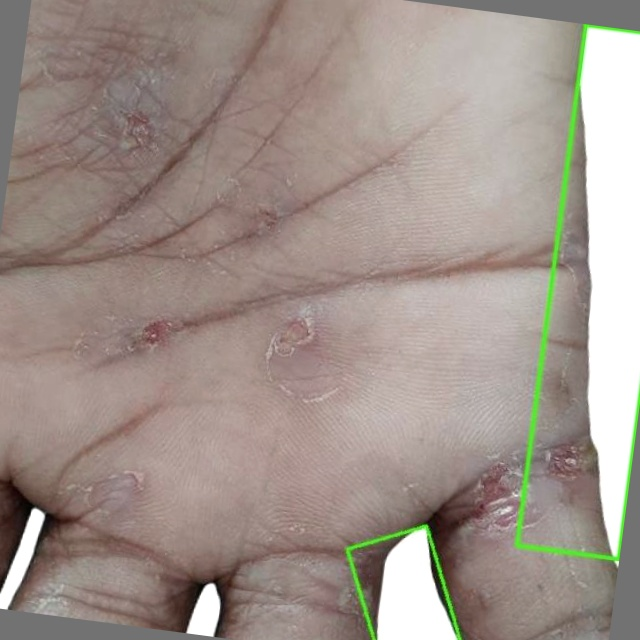Scabies: (517, 24, 639, 559), (346, 525, 459, 639)
